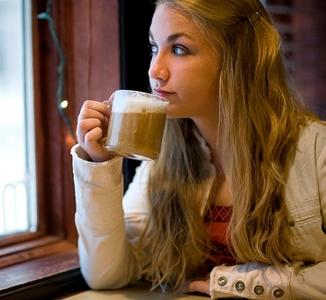person: (71, 2, 326, 300)
